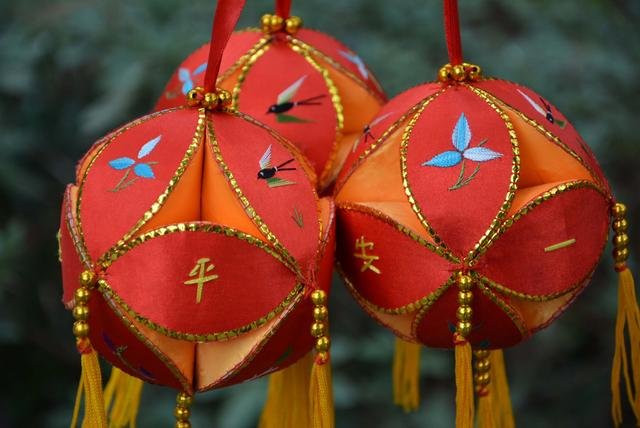xiuqiu: (54, 107, 336, 398), (329, 74, 614, 352)
